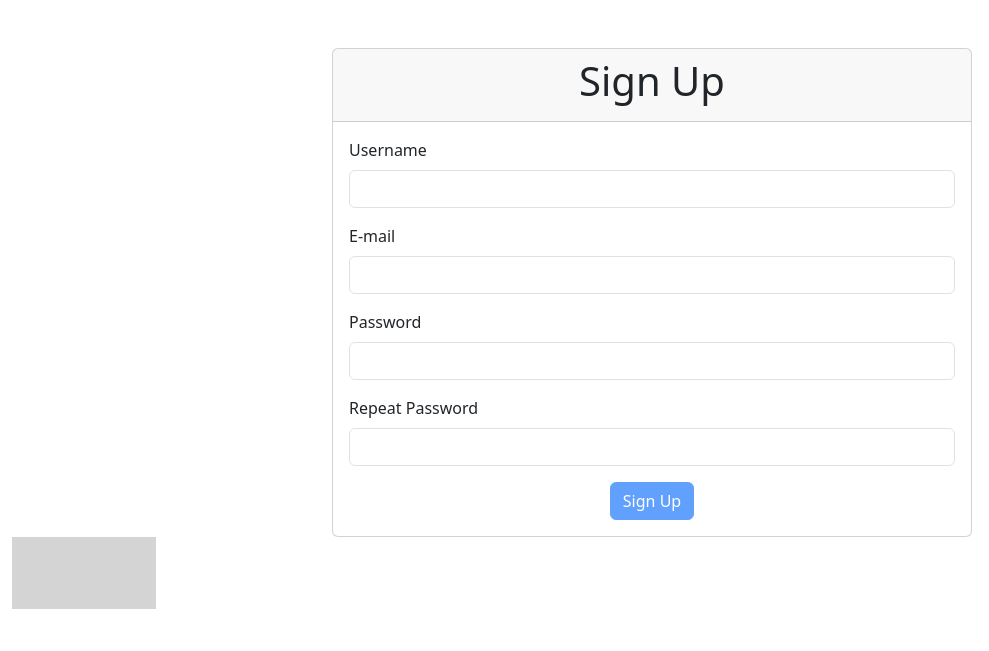
Test: Sign Up Page › Internationalization › sends accept-language having en to backend for sign up request
In the field labelled "Username": point(652, 189) [349, 170, 955, 208], type "user1"
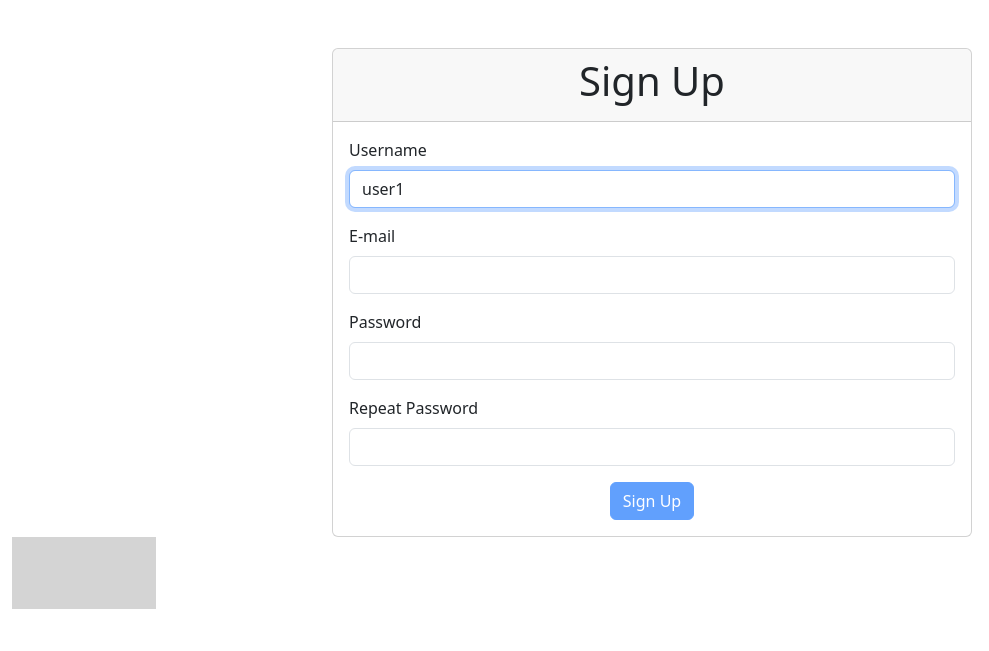
In the field labelled "E-mail": point(652, 275) [349, 256, 955, 294], type "user1@mail.com"
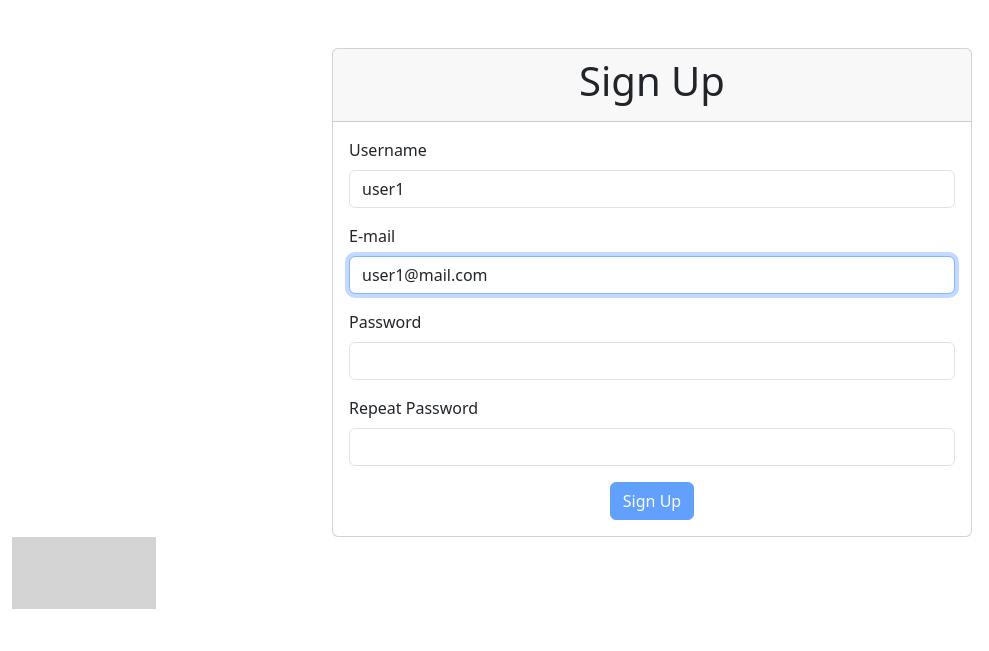
In the password field labelled "Password": point(652, 361) [349, 342, 955, 380], type "P4ssword"
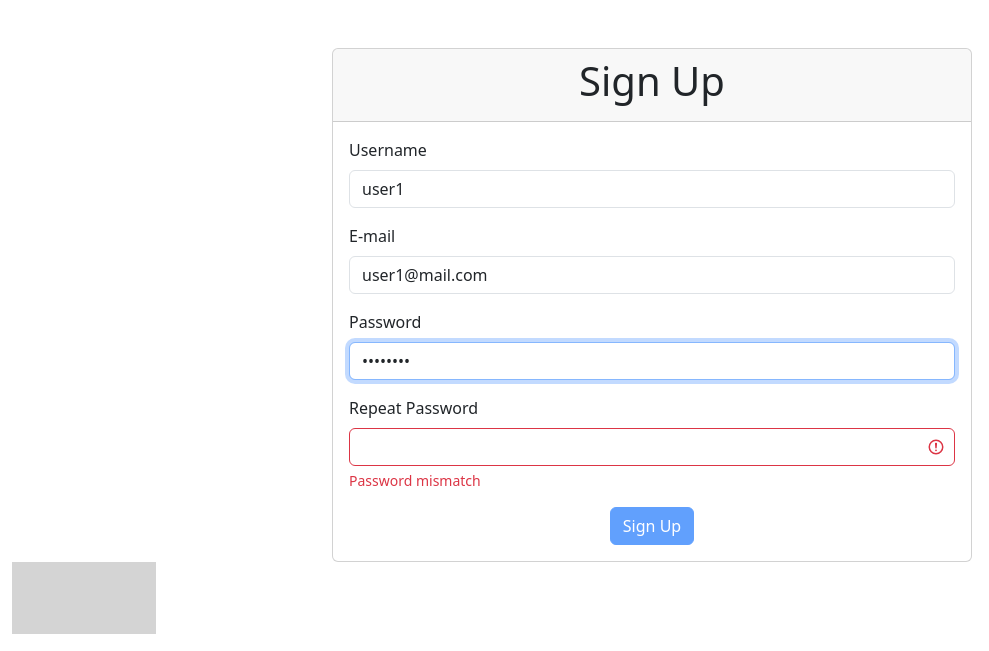
In the password field labelled "Repeat Password": point(652, 447) [349, 428, 955, 466], type "P4ssword"
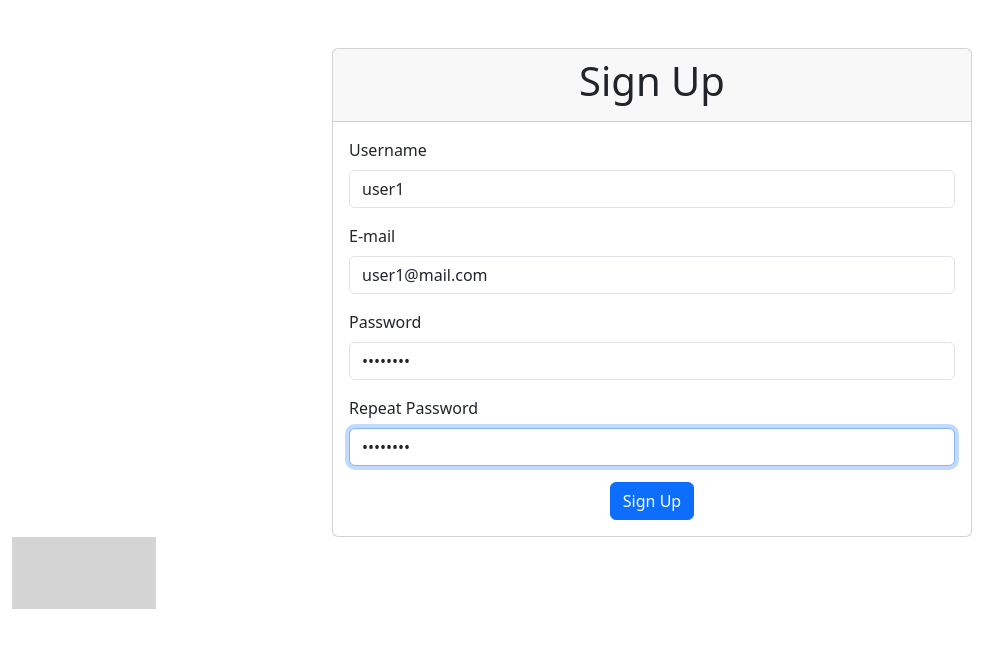
Click the button "Sign Up": point(652, 501) [610, 482, 694, 520]
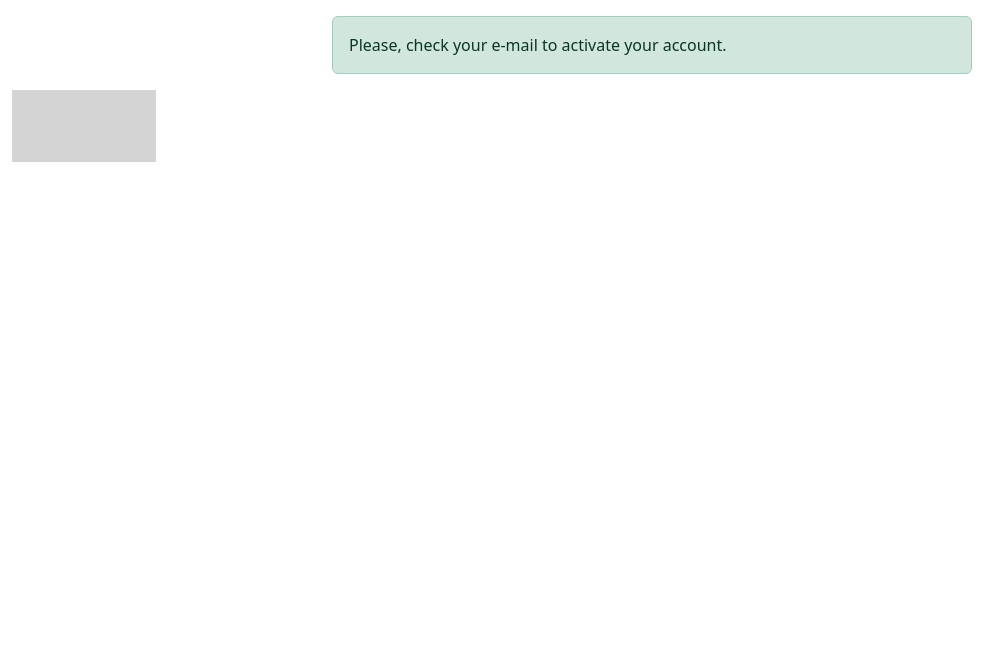
Now the text "Please, check your e-mail to activate your account." is shown, box [332, 16, 972, 74]
